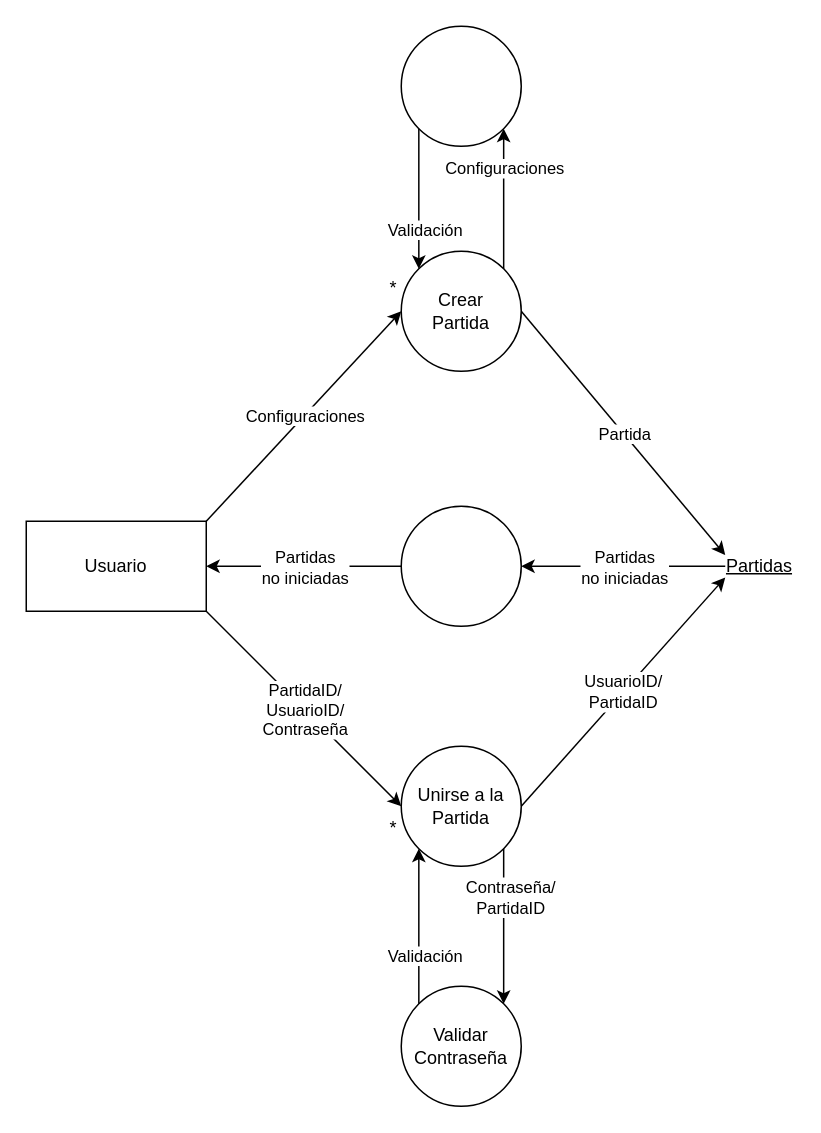
Image size: 821x1133. Some labels were removed from this diagram. Here are the shapes that lost their labels. From the top down, the centre of each, then its label:
At (460,85): "Validar Configs.".
At (460,565): "Listar Partidas".
